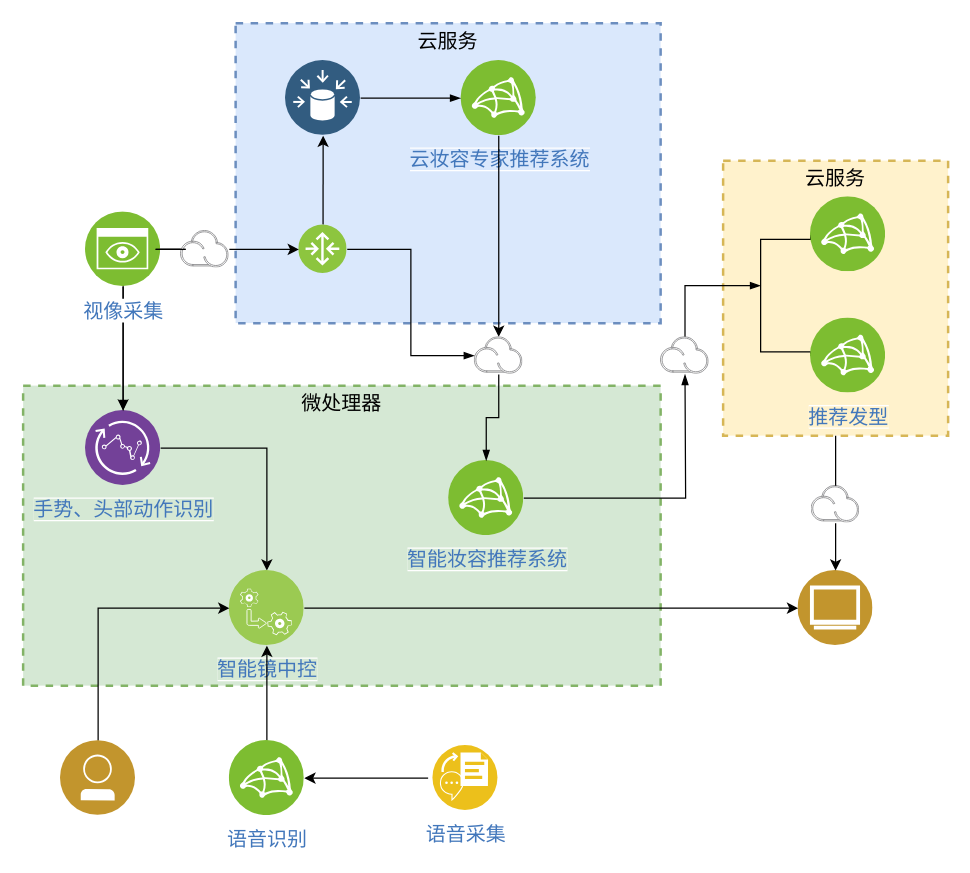
Image size: 970x873. Some labels were removed from this diagram. Each missing label, with the centre of its shape:
云数据库: pixel 322 97
推荐彩妆: pixel 847 233
是否上传图像: pixel 322 249
智能妆容显示: pixel 835 607
触屏操作: pixel 97 777
